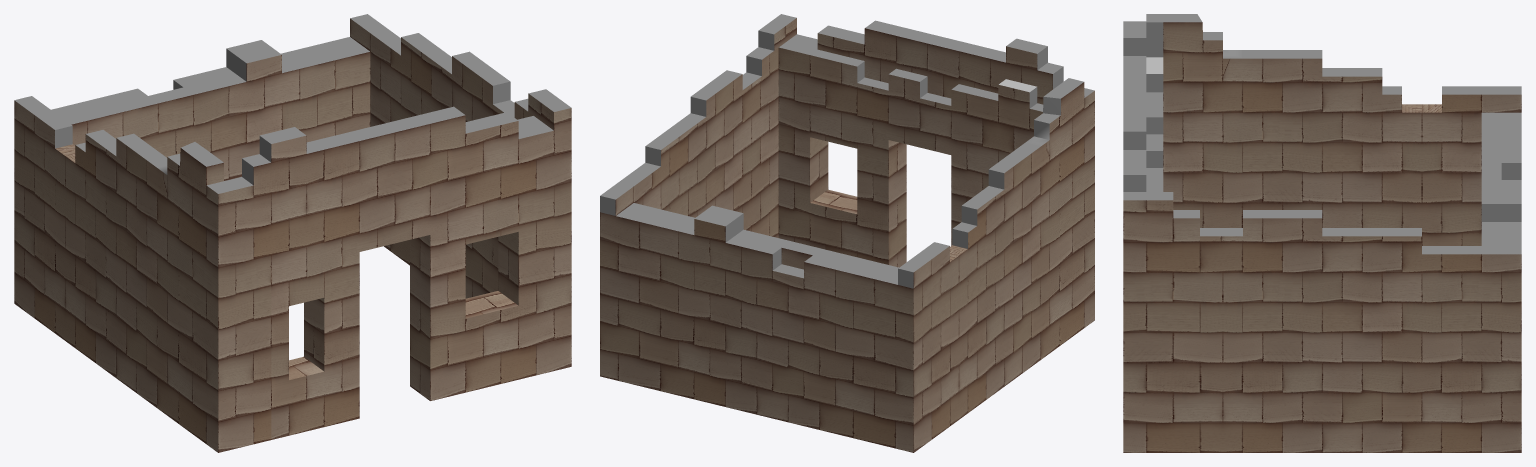
The model's file is jailhouse_time 1.fbx.
3 views of the same model, side by side, from view 1: azimuth 30°, elevation 25°; view 2: azimuth 150°, elevation 25°; view 3: azimuth 270°, elevation 25° (orthographic). The views are drawn at different scales.
Parts seen in each view (by area): view 1: Object137; view 2: Object137; view 3: Object137.
Part boxes in pixels (x1,y1,x2,y2): Object137: (14, 14, 571, 452); Object137: (600, 14, 1094, 452); Object137: (1123, 14, 1521, 452).
Size of the model in its own units: 157 by 126 by 157.
